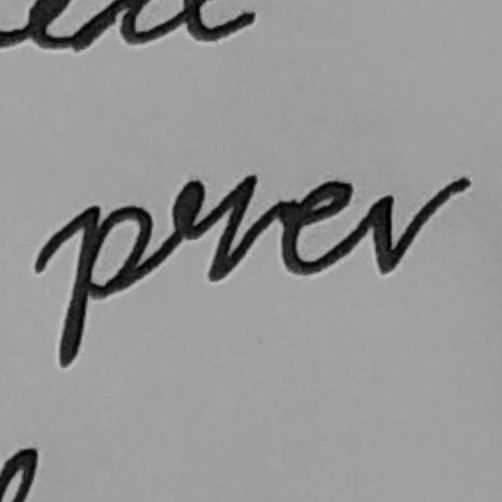e: (267, 176, 361, 277)
p: (30, 192, 162, 375)
r: (163, 166, 261, 287)
v: (362, 173, 477, 280)
